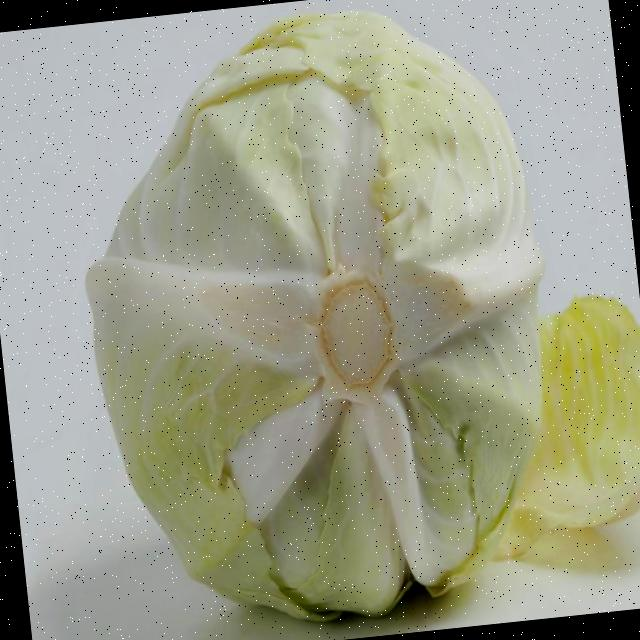cabbage: (55, 0, 587, 640)
